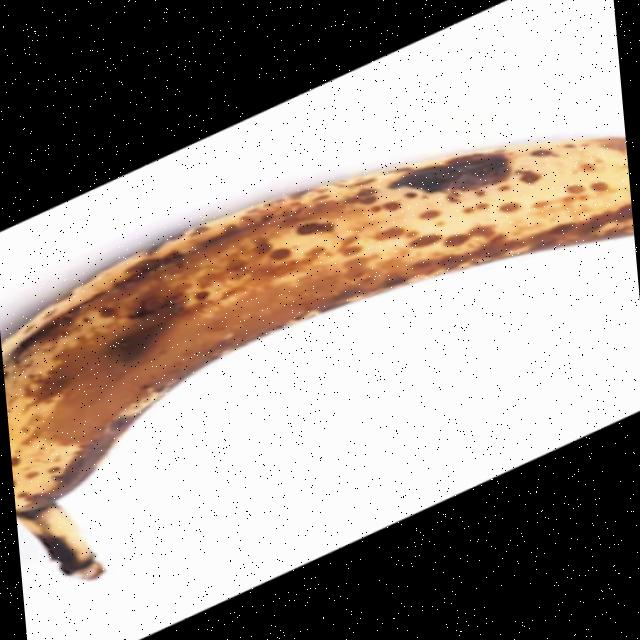overripe: (0, 130, 640, 583)
